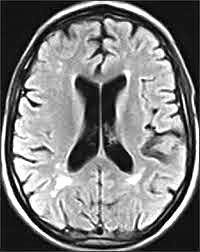Normal_Brain: (1, 3, 200, 252)
